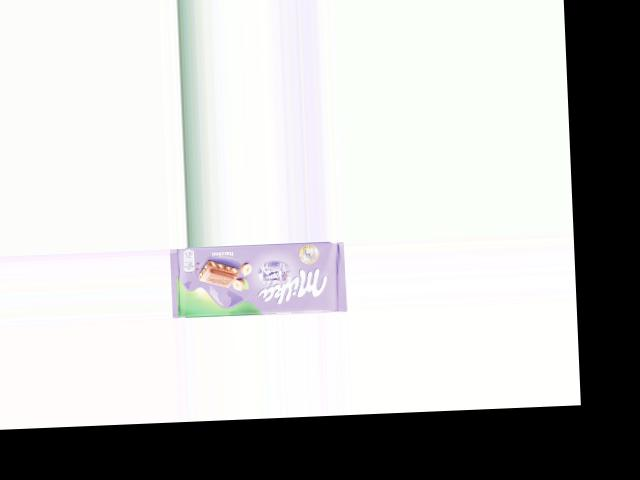chocolate: (168, 240, 346, 318)
